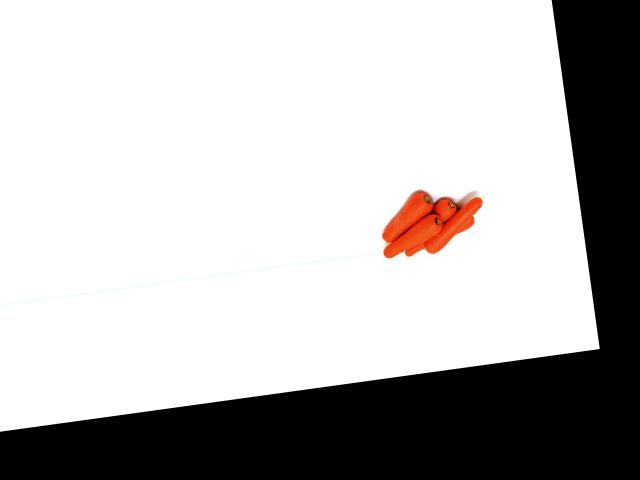carrot: (373, 181, 445, 244)
